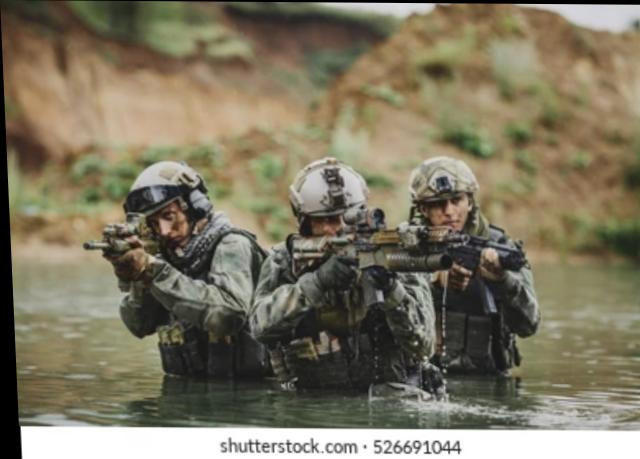other: (107, 162, 268, 417), (404, 163, 527, 397), (269, 162, 386, 392)
